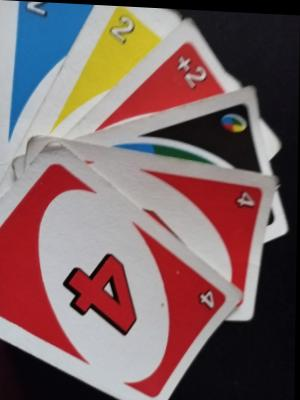-2: (175, 43, 212, 95)
colour: (86, 88, 269, 205), (218, 106, 254, 139)
num_2: (107, 7, 144, 49), (19, 1, 51, 19)
num_4: (233, 180, 261, 216), (196, 280, 220, 312)
